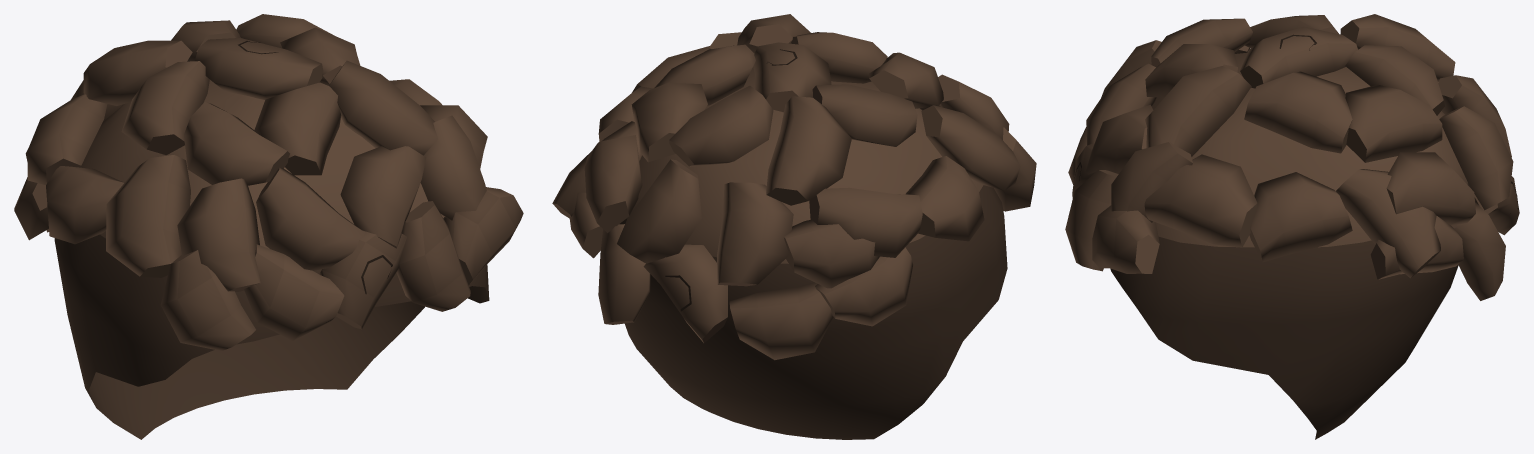
The model's file is hair-ember.glb.
3 views of the same model, side by side, from view 1: azimuth 30°, elevation 25°; view 2: azimuth 150°, elevation 25°; view 3: azimuth 270°, elevation 25° (orthographic). The views are drawn at different scales.
Visible parts, largest first — view 1: hair-ember_ref2_hair-ember__head_mesh; view 2: hair-ember_ref2_hair-ember__head_mesh; view 3: hair-ember_ref2_hair-ember__head_mesh.
Boxes of the visible parts, x1,y1,x2,y2 form: hair-ember_ref2_hair-ember__head_mesh: (14, 14, 523, 439); hair-ember_ref2_hair-ember__head_mesh: (552, 14, 1036, 439); hair-ember_ref2_hair-ember__head_mesh: (1065, 14, 1519, 439).
Size of the model in its own units: 0.438 by 0.3961 by 0.4609.
